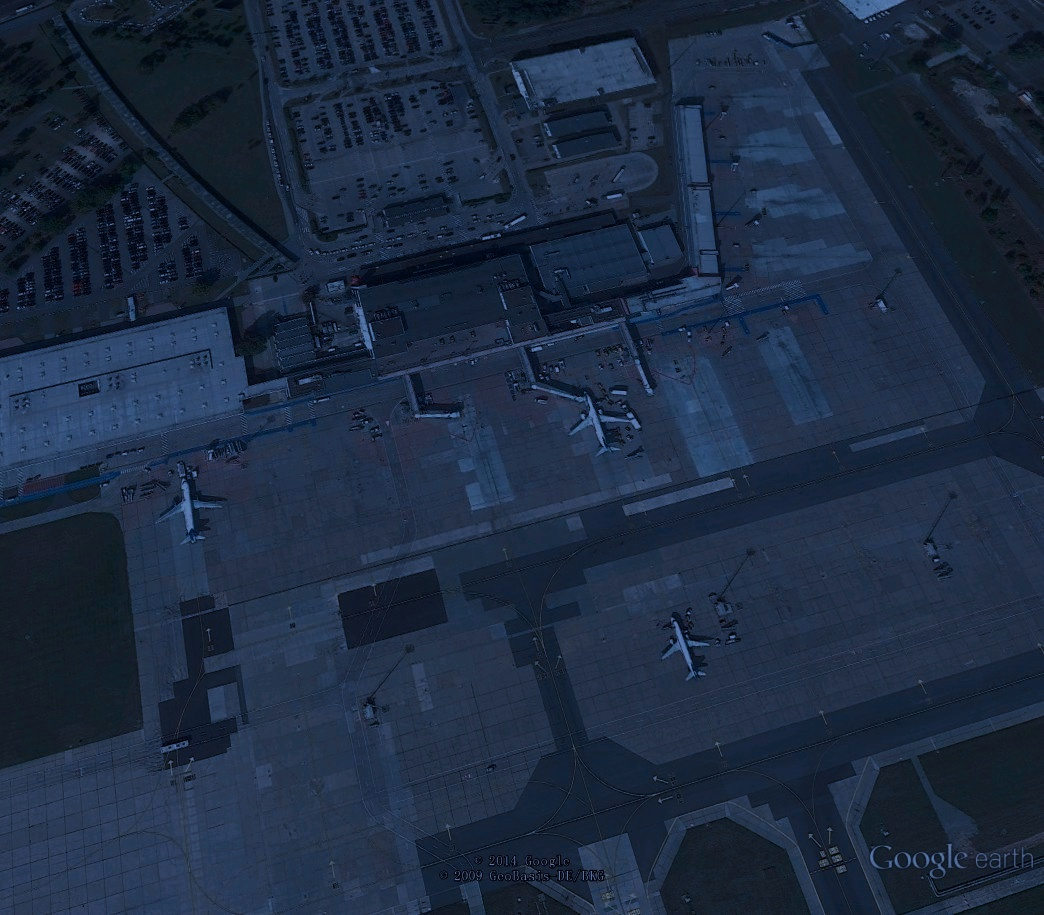aircraft: (150, 471, 229, 550), (565, 387, 639, 462), (657, 610, 721, 685)
